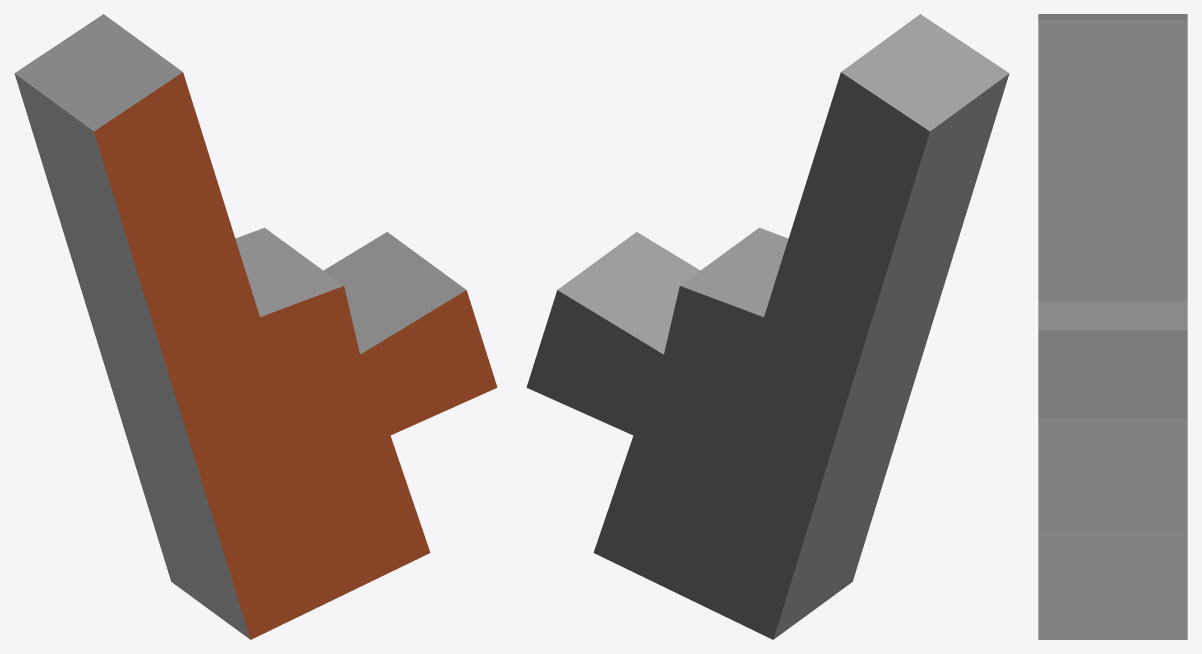
The model's file is construction_3161_assumed_A_Casa_h6m.obj.
3 renders of one model, left to right at view 1: azimuth 30°, elevation 25°; view 2: azimuth 150°, elevation 25°; view 3: azimuth 270°, elevation 25°, orthographic. The views are drawn at different scales.
Visible parts, largest first — view 1: construction_3161_assumed_A_Casa; view 2: construction_3161_assumed_A_Casa; view 3: construction_3161_assumed_A_Casa.
Part boxes in pixels (x1,y1,x2,y2): construction_3161_assumed_A_Casa: (14,14,497,639); construction_3161_assumed_A_Casa: (526,14,1009,639); construction_3161_assumed_A_Casa: (1038,14,1187,639).
Bounding box in the file's own units: 17.59 × 24.34 × 6.
